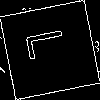L: (25, 25, 76, 62)
